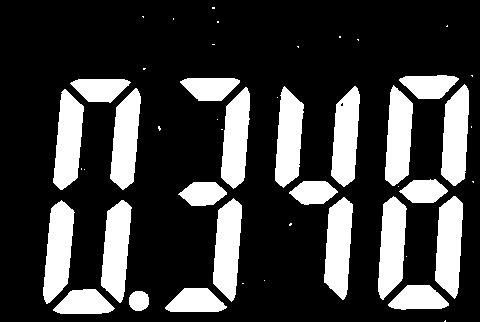0: (42, 76, 143, 316)
3: (164, 75, 250, 314)
4: (271, 84, 363, 301)
8: (381, 76, 470, 314)
dot: (129, 290, 148, 313)
